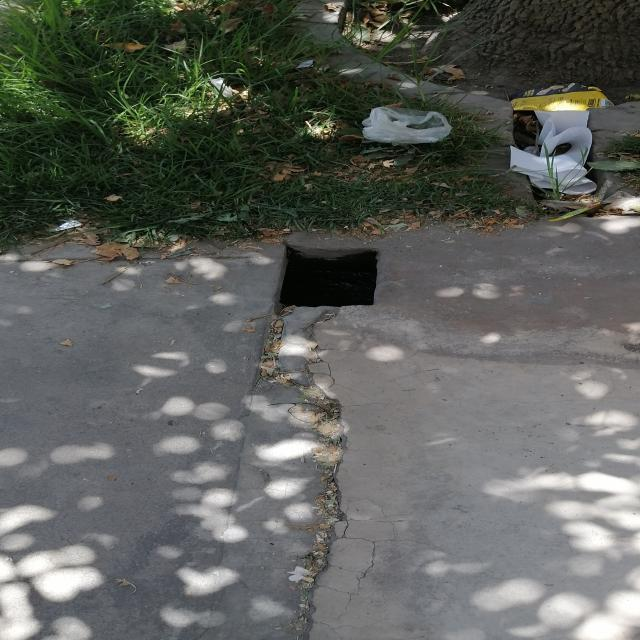hole: (260, 243, 388, 316)
